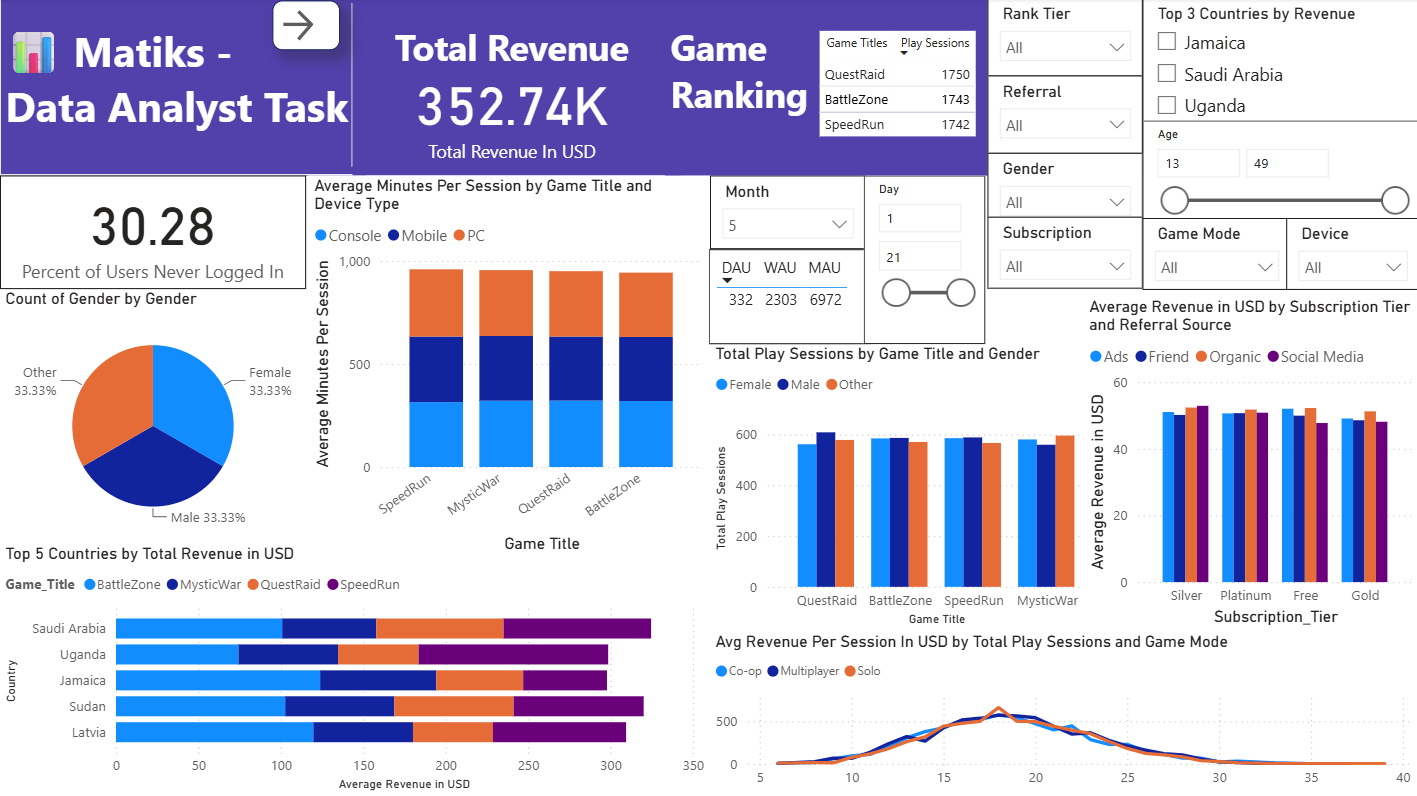

The dashboard page shown, as its layout file describes it:
{"tool":"powerbi","page":{"name":"Summary","canvas":[1280,720],"ordinal":0},"visuals":[{"type":"tableEx","fields":{"Values":["active_users.DAU","active_users.WAU","active_users.MAU"]},"box":[639.4,226.4,145.5,85.8],"z":0},{"type":"slicer","fields":{"Values":["Date.Month"]},"box":[640,160,140,66.2],"z":1000},{"type":"slicer","fields":{"Values":["Date.Day"]},"box":[778.7,160.5,109.5,151.8],"z":2000},{"type":"textbox","box":[0,0,330,159.7],"z":3000},{"type":"textbox","box":[317.5,0,296.2,160],"z":4000},{"type":"textbox","box":[600,0,298.8,160],"z":5000},{"type":"textbox","box":[888.8,0,391.2,160],"z":6000},{"type":"slicer","fields":{"Values":["matiks-clean-data.Gender"]},"box":[890,140,140,58.8],"z":7000},{"type":"slicer","fields":{"Values":["matiks-clean-data.Country"]},"box":[1030,0,250,118.8],"z":8000},{"type":"slicer","fields":{"Values":["matiks-clean-data.Age"]},"box":[1030,110,250,88.8],"z":9000},{"type":"slicer","fields":{"Values":["matiks-clean-data.Subscription_Tier"]},"box":[890,197.5,140,65],"z":10000},{"type":"slicer","fields":{"Values":["matiks-clean-data.Rank_Tier"]},"box":[890,0,140,70],"z":11000},{"type":"slicer","fields":{"Values":["matiks-clean-data.Referral_Source"]},"box":[890,70,140,70],"z":12000},{"type":"slicer","fields":{"Values":["matiks-clean-data.Preferred_Game_Mode"]},"box":[1030,198.8,133.8,65],"z":13000},{"type":"slicer","fields":{"Values":["matiks-clean-data.Device_Type"]},"box":[1160,198.8,120,65],"z":14000},{"type":"card","fields":{"Values":["Sum(matiks-clean-data.Total_Revenue_USD)"]},"box":[353.8,51.2,216.2,103.8],"z":15000},{"type":"tableEx","fields":{"Values":["matiks-clean-data.Game_Title","CountNonNull(matiks-clean-data.Total_Play_Sessions)"]},"box":[732.5,25,156.2,108.8],"z":16000},{"type":"pieChart","fields":{"Category":["matiks-clean-data.Gender"],"Y":["CountNonNull(visuals.Gender)"]},"box":[0,262.5,276.2,230],"z":17000},{"type":"columnChart","fields":{"Category":["matiks-clean-data.Game_Title"],"Y":["Avg(matiks-clean-data.Avg_Minutes_Per_Session)"],"Series":["matiks-clean-data.Device_Type"]},"box":[278.6,160.5,360.7,344.6],"z":18000},{"type":"clusteredColumnChart","fields":{"Series":["matiks-clean-data.Gender"],"Category":["matiks-clean-data.Game_Title"],"Y":["CountNonNull(matiks-clean-data.Total_Play_Sessions)"]},"box":[640,312.5,362.5,258.8],"z":19000},{"type":"barChart","title":"Top 5 Countries by Total Revenue in USD","fields":{"Category":["matiks-clean-data.Country"],"Y":["Avg(matiks-clean-data.Total_Revenue_USD)"],"Series":["matiks-clean-data.Game_Title"]},"box":[0,492.5,640,227.5],"z":20000},{"type":"clusteredColumnChart","title":"Average Revenue in USD by Subscription Tier and Referral Source","fields":{"Category":["matiks-clean-data.Subscription_Tier"],"Y":["Avg(matiks-clean-data.Total_Revenue_USD)"],"Series":["matiks-clean-data.Referral_Source"]},"box":[977.8,269.9,302.3,301],"z":21000},{"type":"lineChart","fields":{"Y":["Sum(matiks-clean-data.Revenue_Per_Session_USD)"],"Category":["matiks-clean-data.Total_Play_Sessions"],"Series":["matiks-clean-data.Preferred_Game_Mode"]},"box":[640,571.2,640,148.8],"z":22000},{"type":"card","fields":{"Values":["CountNonNull(matiks-clean-data.Recency_Category)","select"]},"box":[0,160,276.2,102.5],"z":23000},{"type":"actionButton","box":[245.5,2.6,60.7,44.9],"z":23001}]}

Visuals, with their boxes in screenshot pixels (x1, y1, x2, y2), scaled from the page's 1280x720 canvas onto the 1417x796 screenshot:
tableEx - active_users.DAU x active_users.WAU: 708/250/869/345
slicer - Date.Month: 708/177/863/250
slicer - Date.Day: 862/177/983/345
textbox: 0/0/365/177
textbox: 351/0/679/177
textbox: 664/0/995/177
textbox: 984/0/1416/177
slicer - matiks-clean-data.Gender: 985/155/1140/220
slicer - matiks-clean-data.Country: 1140/0/1416/131
slicer - matiks-clean-data.Age: 1140/122/1416/220
slicer - matiks-clean-data.Subscription_Tier: 985/218/1140/290
slicer - matiks-clean-data.Rank_Tier: 985/0/1140/77
slicer - matiks-clean-data.Referral_Source: 985/77/1140/155
slicer - matiks-clean-data.Preferred_Game_Mode: 1140/220/1288/292
slicer - matiks-clean-data.Device_Type: 1284/220/1416/292
card - Sum(matiks-clean-data.Total_Revenue_USD): 392/57/631/171
tableEx - matiks-clean-data.Game_Title x CountNonNull(matiks-clean-data.Total_Play_Sessions): 811/28/984/148
pieChart - matiks-clean-data.Gender x CountNonNull(visuals.Gender): 0/290/306/544
columnChart - matiks-clean-data.Game_Title x Avg(matiks-clean-data.Avg_Minutes_Per_Session): 308/177/708/558
clusteredColumnChart - matiks-clean-data.Gender x matiks-clean-data.Game_Title: 708/345/1110/632
"Top 5 Countries by Total Revenue in USD" barChart: 0/544/708/795
"Average Revenue in USD by Subscription Tier and Referral Source" clusteredColumnChart: 1082/298/1416/631
lineChart - Sum(matiks-clean-data.Revenue_Per_Session_USD) x matiks-clean-data.Total_Play_Sessions: 708/631/1416/795
card - CountNonNull(matiks-clean-data.Recency_Category) x select: 0/177/306/290
actionButton: 272/3/339/53
